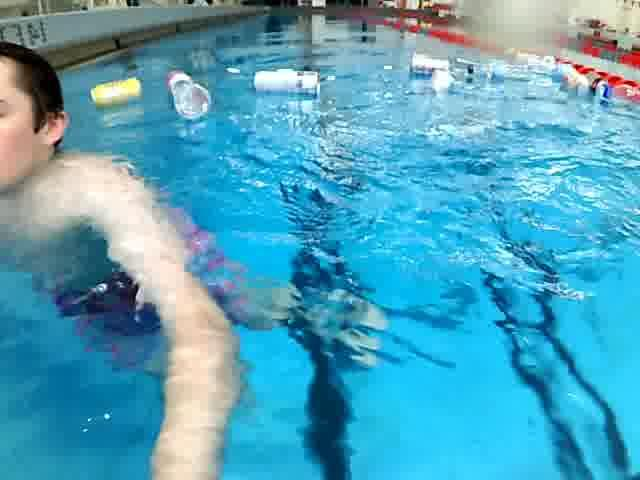Bottle: (172, 82, 222, 126), (465, 62, 534, 88)
Can: (82, 73, 152, 112), (245, 67, 326, 98), (406, 50, 454, 80), (160, 64, 193, 91)
